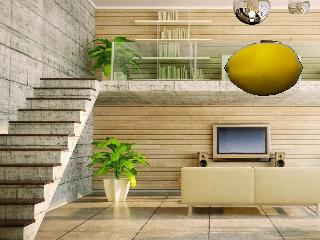lemon: (222, 39, 306, 98)
